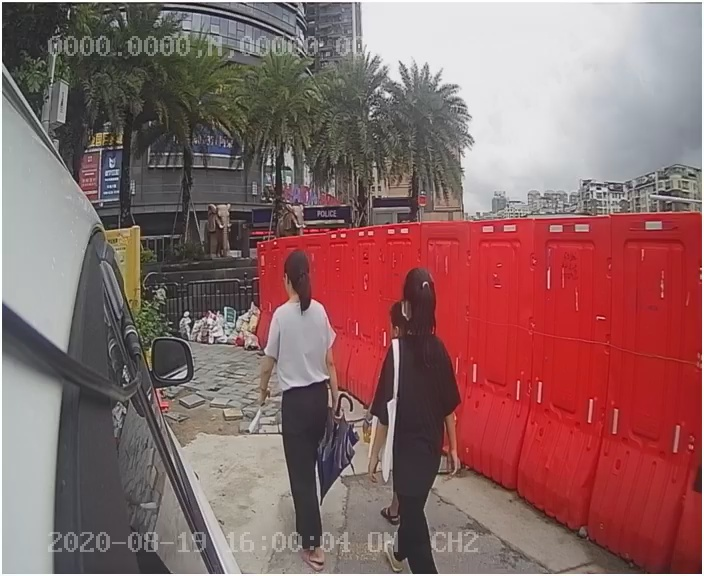person: (356, 260, 481, 527), (246, 246, 361, 529)
